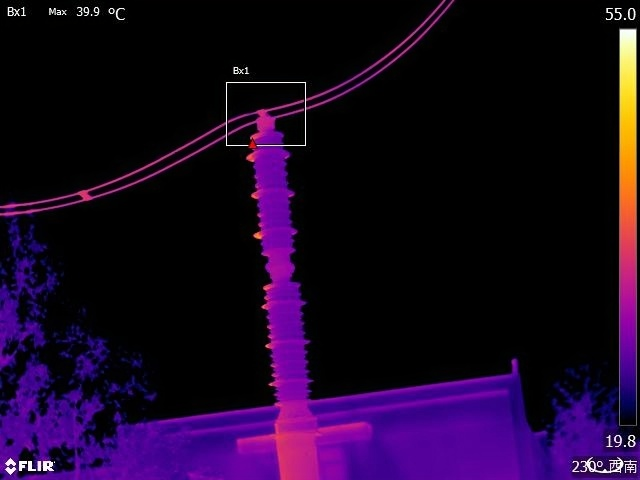post insulator: (228, 102, 339, 433)
